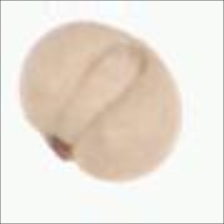L5: (49, 38, 152, 142), (39, 129, 83, 166)
L6: (16, 20, 183, 186)
